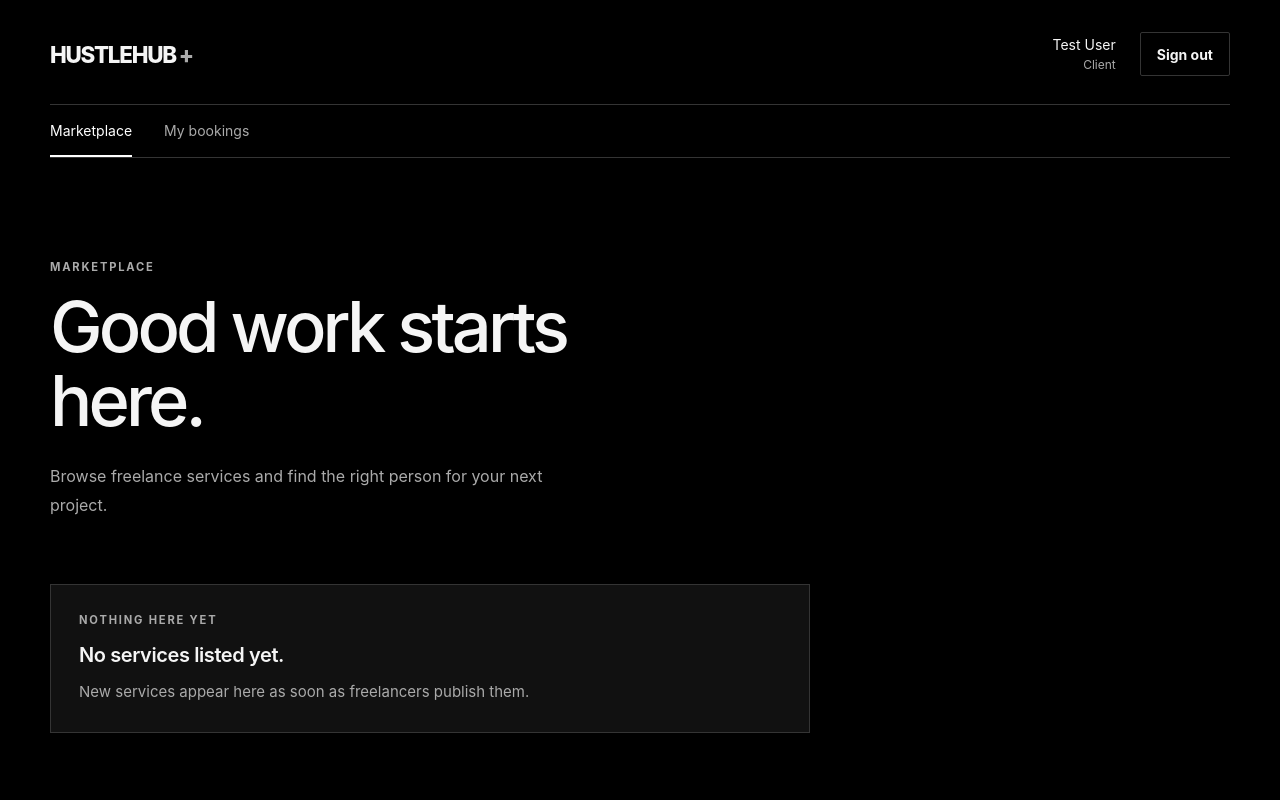
server-side sign-out › revokes the token on the API and removes the local session
The image size is (1280, 800).
Click the button "Sign out" at (1185, 54), box top-left (1140, 32), bottom-right (1230, 76)
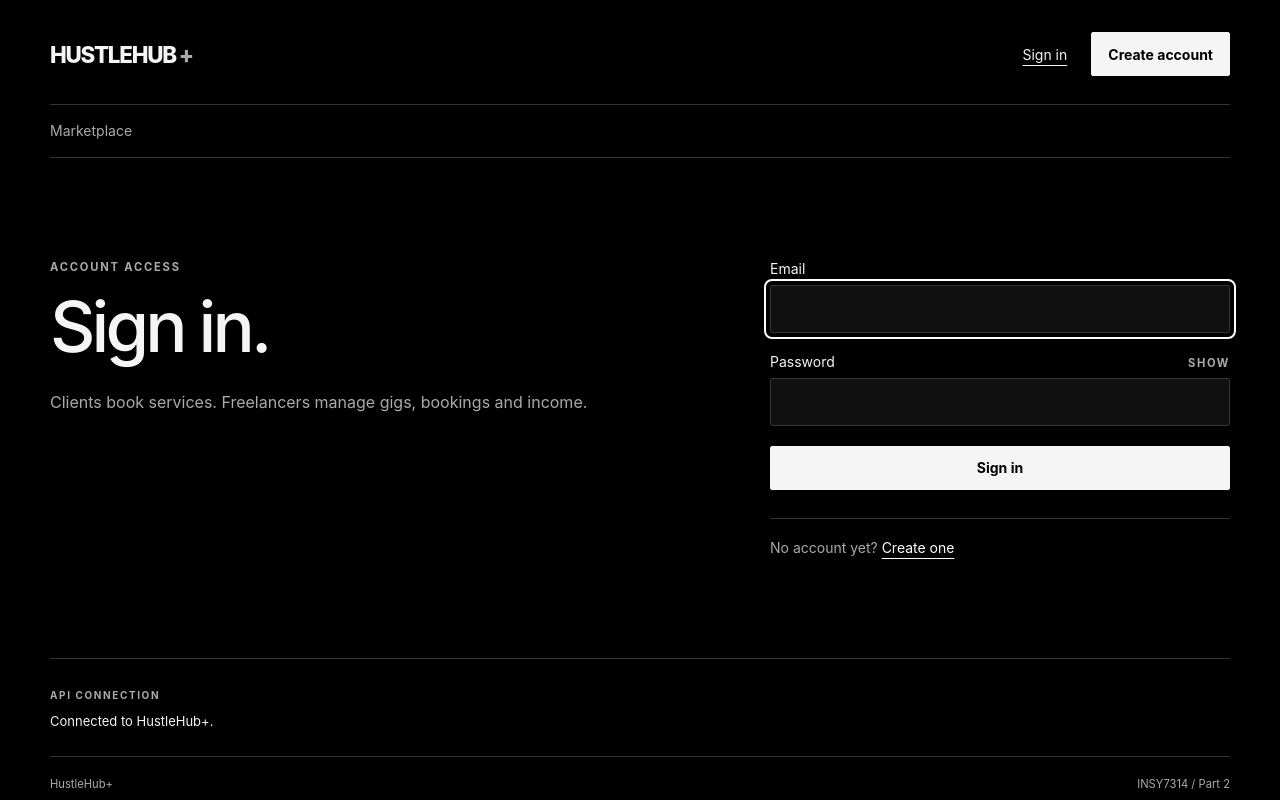
Expected: the heading "Sign in." is shown, top-left (50, 284), bottom-right (268, 369)
